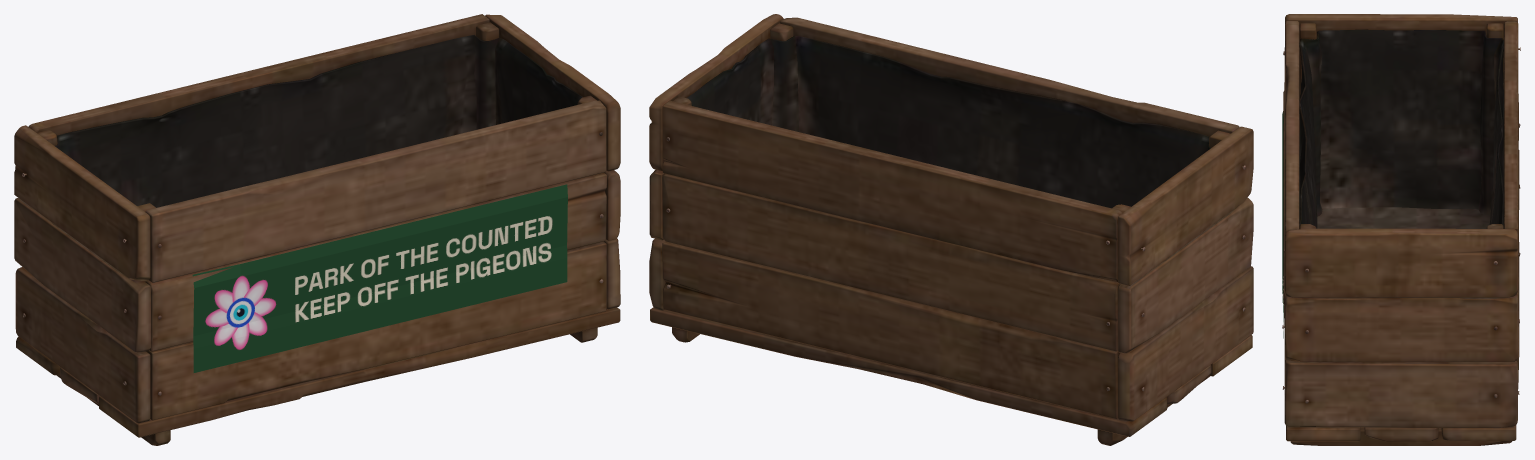
Rendered from nyb_pigeons_planter.glb.
3 views of the same model, side by side, from view 1: azimuth 30°, elevation 25°; view 2: azimuth 150°, elevation 25°; view 3: azimuth 270°, elevation 25° (orthographic). The views are drawn at different scales.
Parts seen in each view (by area): view 1: planter_box_01, stk_lbl_fbb1ca558b.png; view 2: planter_box_01; view 3: planter_box_01, stk_lbl_fbb1ca558b.png.
Part boxes in pixels (bbox=[...]): planter_box_01: bbox=[14, 14, 620, 445]; stk_lbl_fbb1ca558b.png: bbox=[192, 184, 567, 372]; planter_box_01: bbox=[649, 14, 1253, 445]; planter_box_01: bbox=[1282, 14, 1520, 445]; stk_lbl_fbb1ca558b.png: bbox=[1282, 111, 1284, 338].
Size of the model in its own units: 0.9126 by 0.425 by 0.4141.
Materials: 2 (2 with a texture image).
